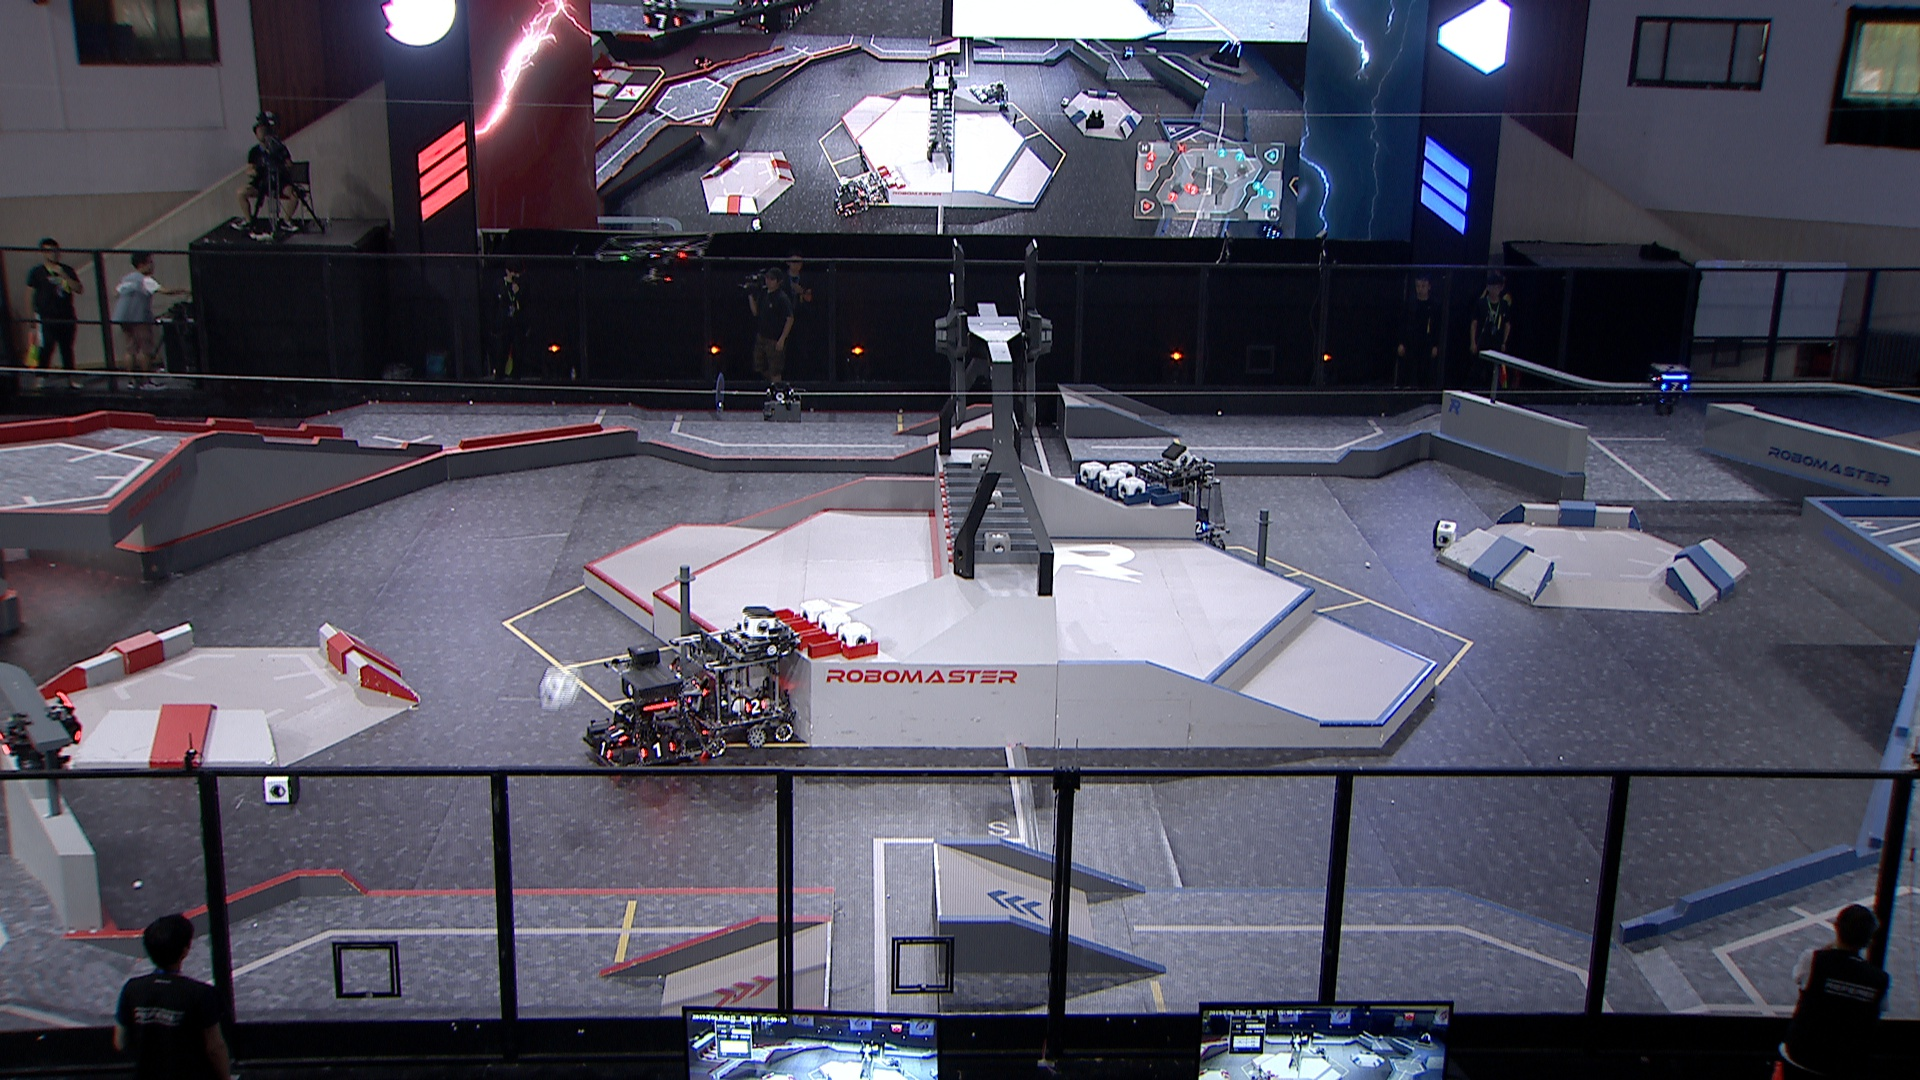armor: (638, 740, 676, 760), (742, 698, 771, 716), (1658, 380, 1691, 394), (593, 741, 615, 764), (603, 727, 629, 744), (1192, 520, 1211, 535)
car: (578, 640, 708, 778), (669, 618, 798, 756), (1131, 450, 1236, 559)
ignore: (831, 178, 868, 219), (852, 169, 887, 206), (1209, 38, 1245, 69), (982, 80, 1010, 111), (688, 53, 717, 73), (1120, 45, 1135, 61)
watcher: (1646, 361, 1695, 415)
